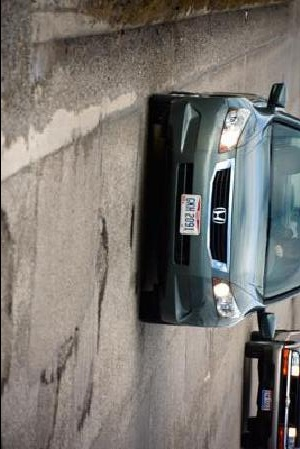pothole: (0, 203, 15, 394), (91, 213, 111, 300)
